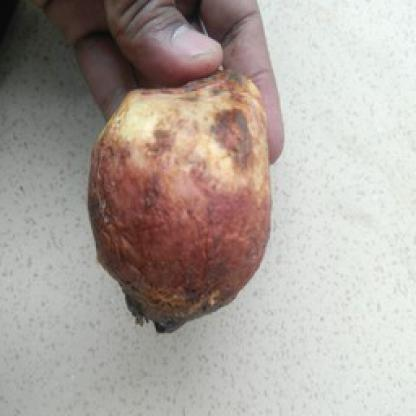guava_rotten: (68, 66, 275, 334)
